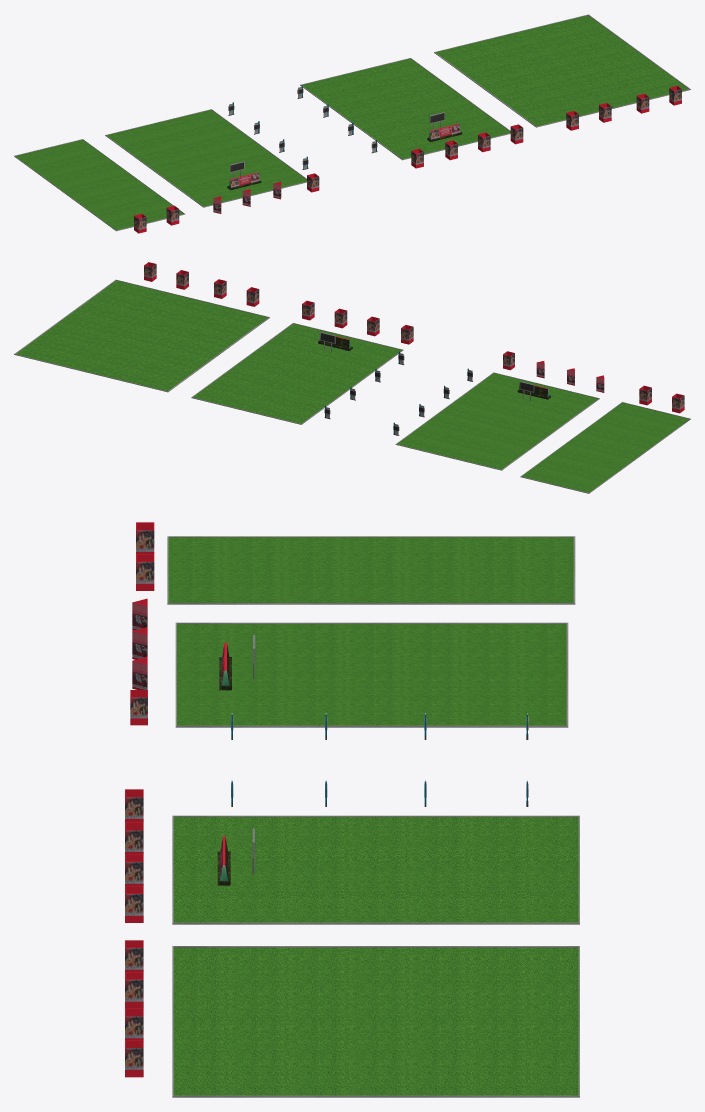
File: Quang Truong Tinh.glb
The picture shows the model from 3 angles, top to bottom: view 1: azimuth 30°, elevation 25°; view 2: azimuth 150°, elevation 25°; view 3: azimuth 270°, elevation 25°; orthographic projection. The views are drawn at different scales.
Visible parts, largest first — view 1: BPH061.004, BPH061.003, BPH061.002, BPH061.001; view 2: BPH061.004, BPH061.003, BPH061.002, BPH061.001; view 3: BPH061.004, BPH061.003, BPH061.002, BPH061.001.
Part boxes in pixels (box(x1,y1,x2,y2)): BPH061.004: box(434, 14, 690, 130); BPH061.003: box(297, 58, 523, 168); BPH061.002: box(105, 102, 319, 213); BPH061.001: box(14, 139, 185, 233); BPH061.004: box(14, 262, 269, 392); BPH061.003: box(191, 300, 413, 424); BPH061.002: box(393, 351, 604, 470); BPH061.001: box(520, 385, 690, 493); BPH061.004: box(125, 940, 579, 1097); BPH061.003: box(125, 780, 579, 924); BPH061.002: box(130, 598, 568, 739); BPH061.001: box(136, 522, 575, 604).
Bounding box in the file's own units: 286 × 8.44 × 98.22.
Materials: 1 (1 with a texture image).
